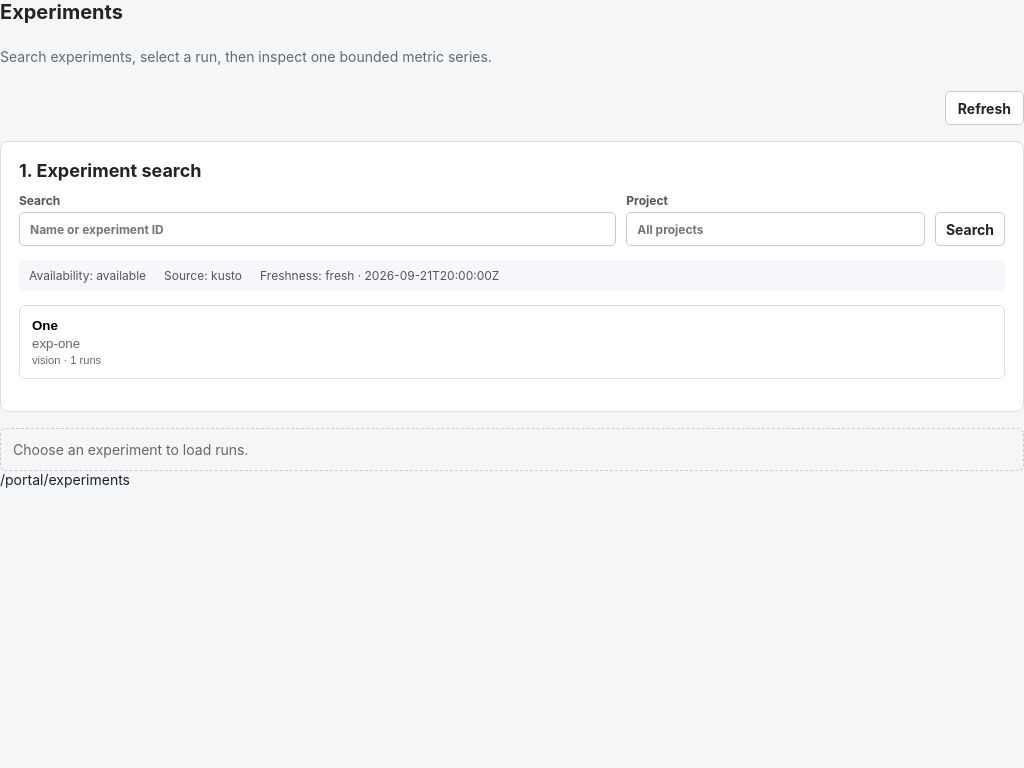
typed experiment dashboard › navigates through the canonical endpoints within a five-request budget
This screenshot has width=1024, height=768.
Click the button "One exp-one vision · 1 runs": [56, 344] box [19,305,1005,379]
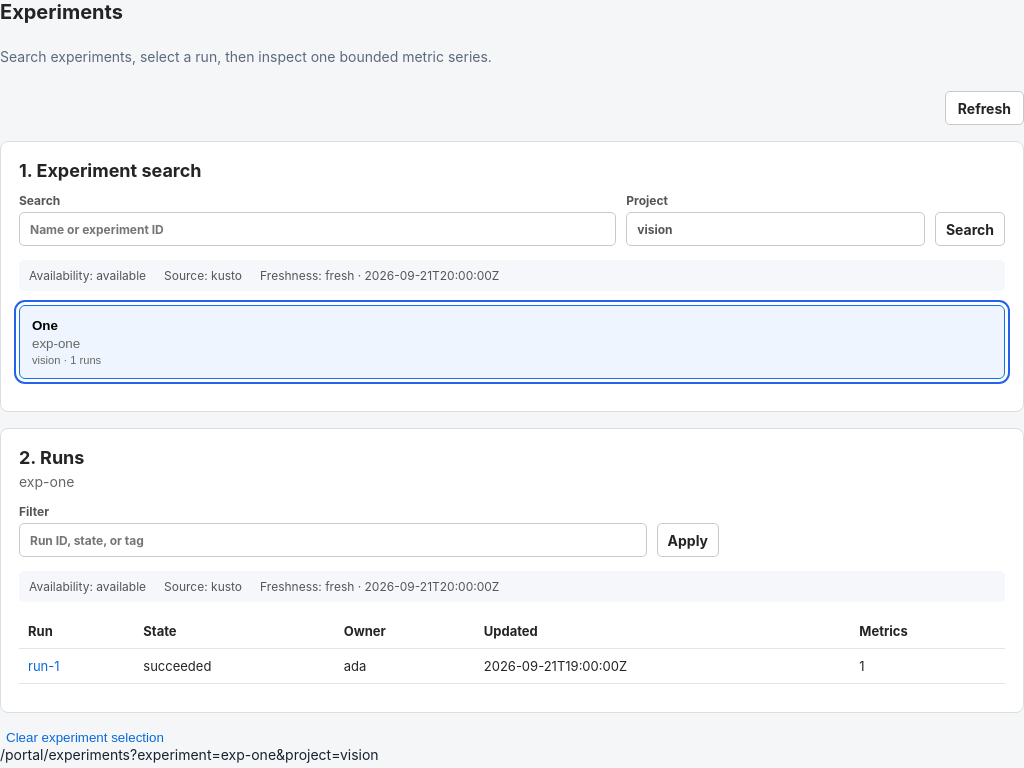
Click the button "run-1": [44, 666] box [28,658,60,674]
(page scrolled)
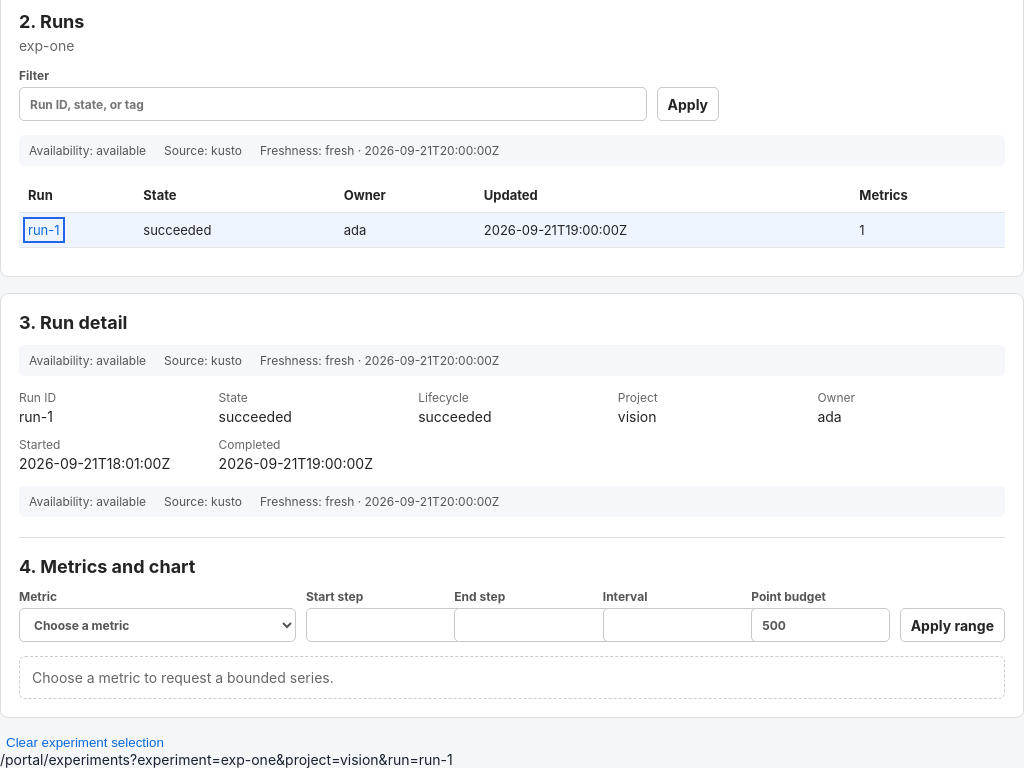
Result: the text "ada" is shown at [335,212,475,248]
Result: the dropdown labelled "Metric" is shown
Select "train/loss" in the dropdown labelled "Metric": [157, 625] box [19,608,296,642]
(page scrolled)
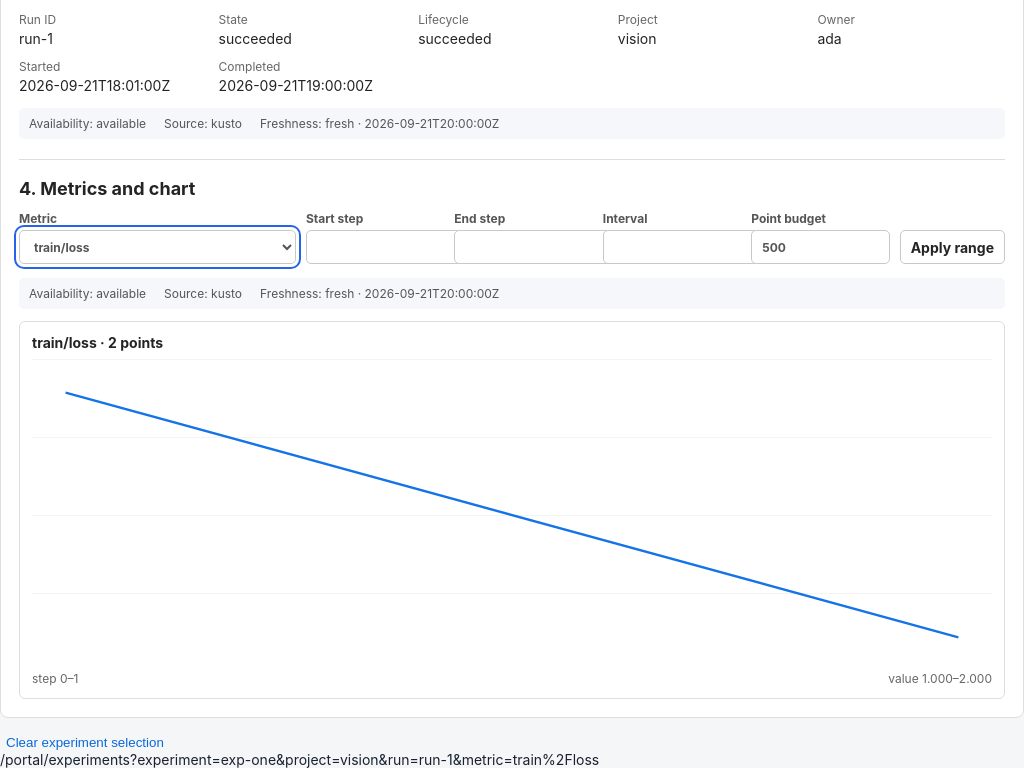
Result: the text named "location" shows "experiment=exp-one" at [0,751,599,767]
Result: the text named "location" shows "run=run-1" at [0,751,599,767]
Result: the picture named "train/loss series chart" is shown at [32,359,992,671]
